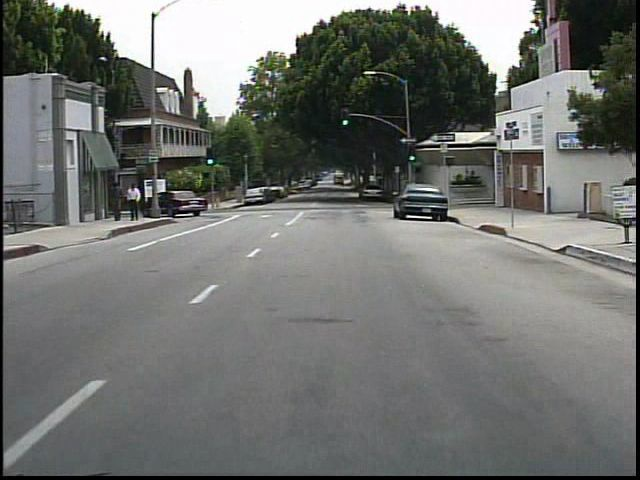person: (112, 182, 130, 224), (128, 182, 146, 223)
